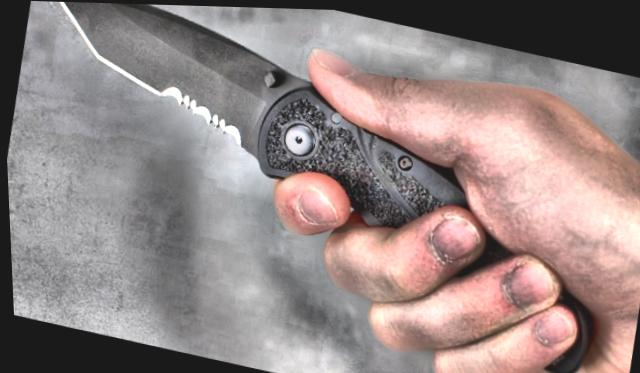knife: (1, 0, 518, 290)
